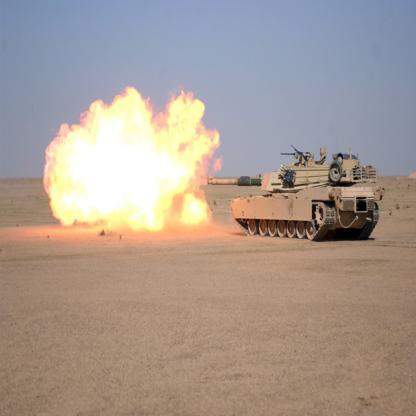Tank: (206, 142, 385, 250)
